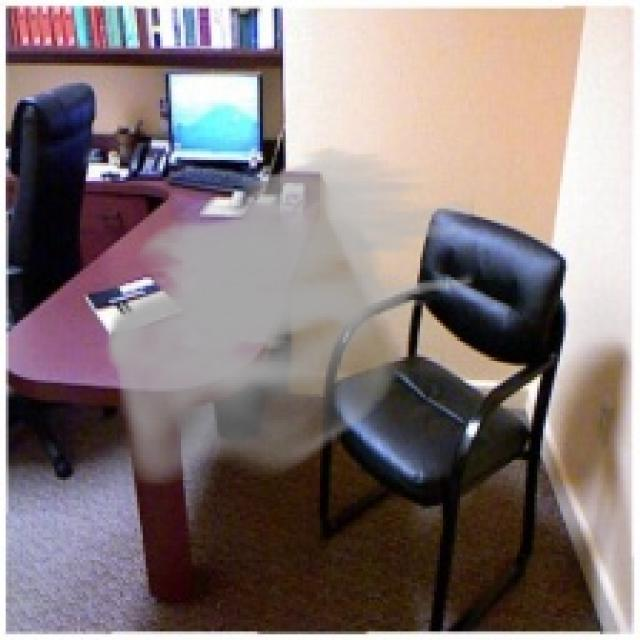smoke: (106, 143, 474, 486)
